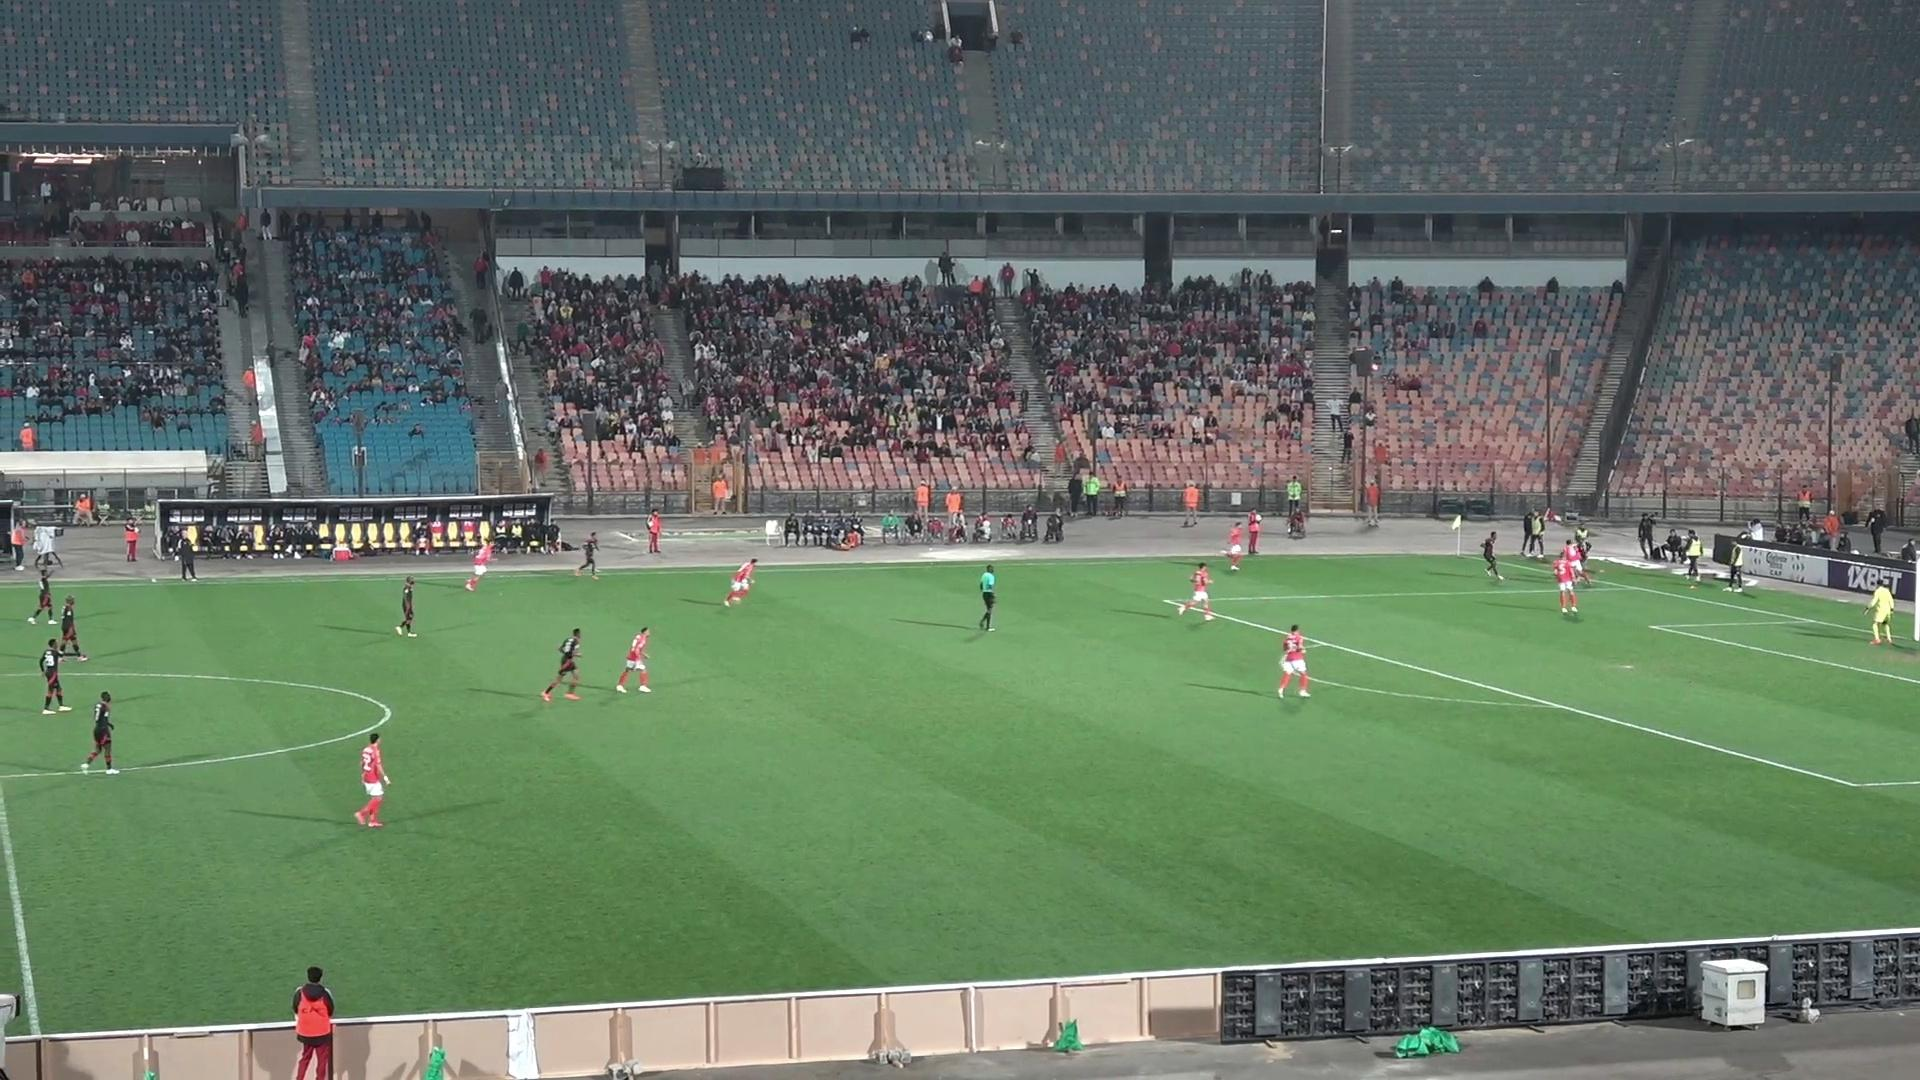GK1: (1847, 563, 1919, 644)
Refree: (977, 564, 997, 632)
Team1: (355, 735, 389, 827), (615, 628, 650, 692), (1278, 625, 1308, 698), (1178, 563, 1215, 620), (1552, 545, 1578, 617), (1222, 516, 1255, 570), (723, 558, 758, 607), (464, 543, 495, 591), (1563, 534, 1589, 580)
Team2: (541, 628, 582, 702), (82, 692, 117, 773), (40, 637, 71, 713), (26, 560, 55, 622), (57, 593, 84, 658), (393, 575, 415, 637), (1480, 531, 1503, 579), (575, 533, 597, 578)
